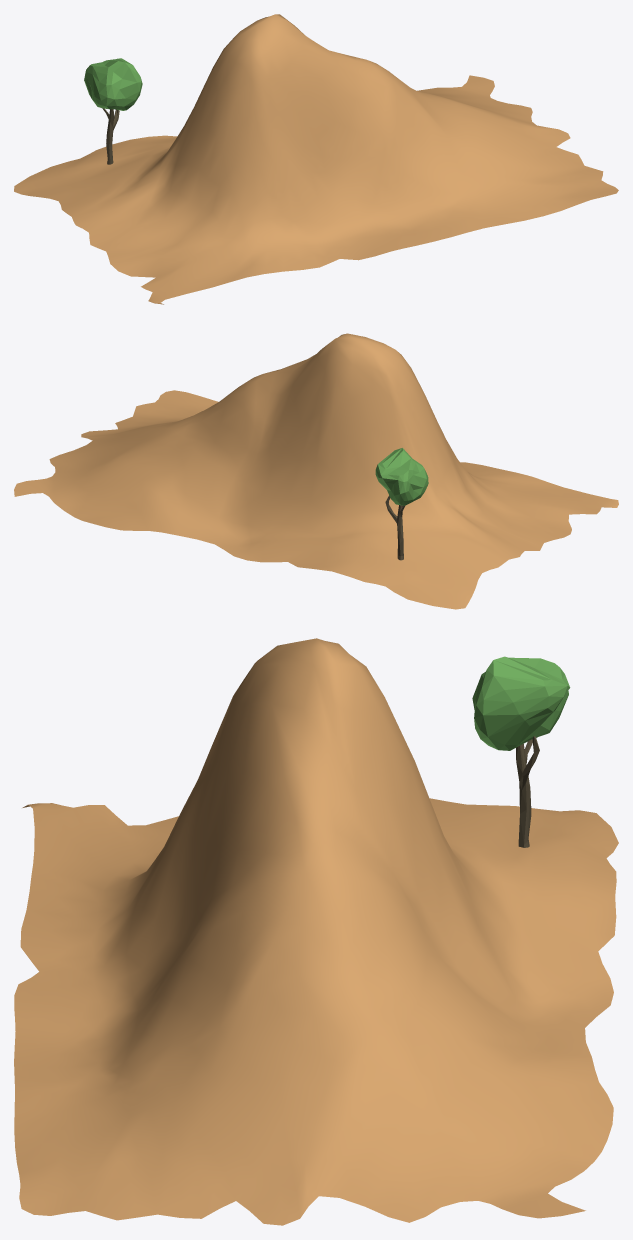
The model's file is farground2.fbx.
The picture shows the model from 3 angles, top to bottom: view 1: azimuth 30°, elevation 25°; view 2: azimuth 150°, elevation 25°; view 3: azimuth 270°, elevation 25°; orthographic projection. The views are drawn at different scales.
Parts seen in each view (by area): view 1: polySurface1; view 2: polySurface1; view 3: polySurface1.
Boxes of the visible parts, x1=… form: polySurface1: x1=14, y1=14, x2=618, y2=304; polySurface1: x1=14, y1=333, x2=618, y2=609; polySurface1: x1=14, y1=638, x2=618, y2=1225.
Size of the model in its own units: 1590 by 583 by 947.
